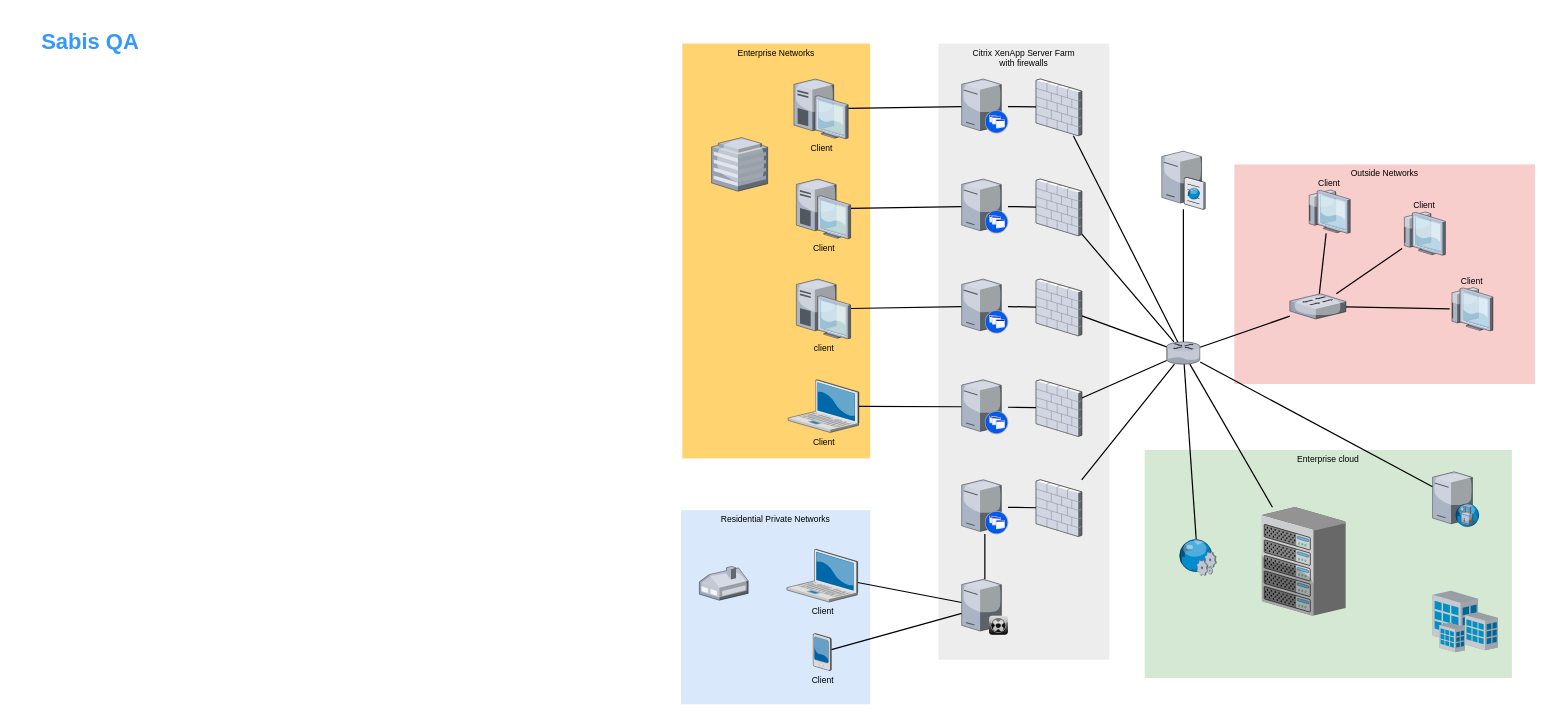
Image size: 1545x715. Some labels were removed from this diagram. Here are the shapes that lost their labels. From the top down, the centre of each, then its label:
(x=1183, y=179): Web Server
(x=1455, y=499): Secure Server
(x=1197, y=557): Web service
(x=1303, y=561): DNS
